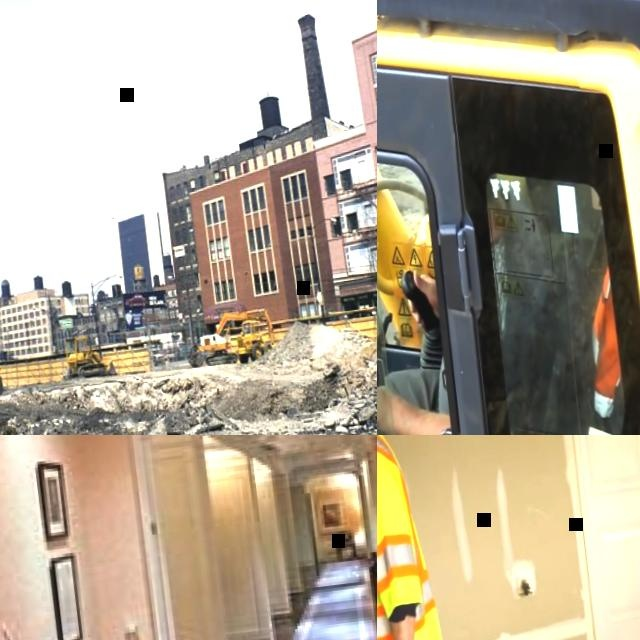Person: (377, 173, 541, 435), (377, 435, 476, 640)
Safety Vest: (377, 435, 448, 640), (576, 260, 628, 425)
machinery: (377, 0, 640, 435), (377, 0, 458, 435), (184, 306, 280, 368), (60, 329, 118, 381), (234, 316, 274, 363)
